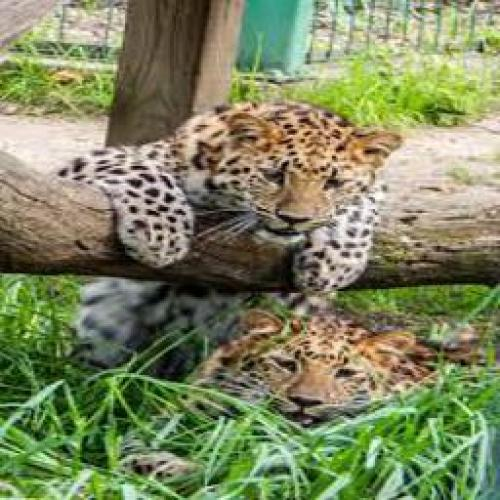amur_leopard-endangered: (61, 98, 404, 370)
